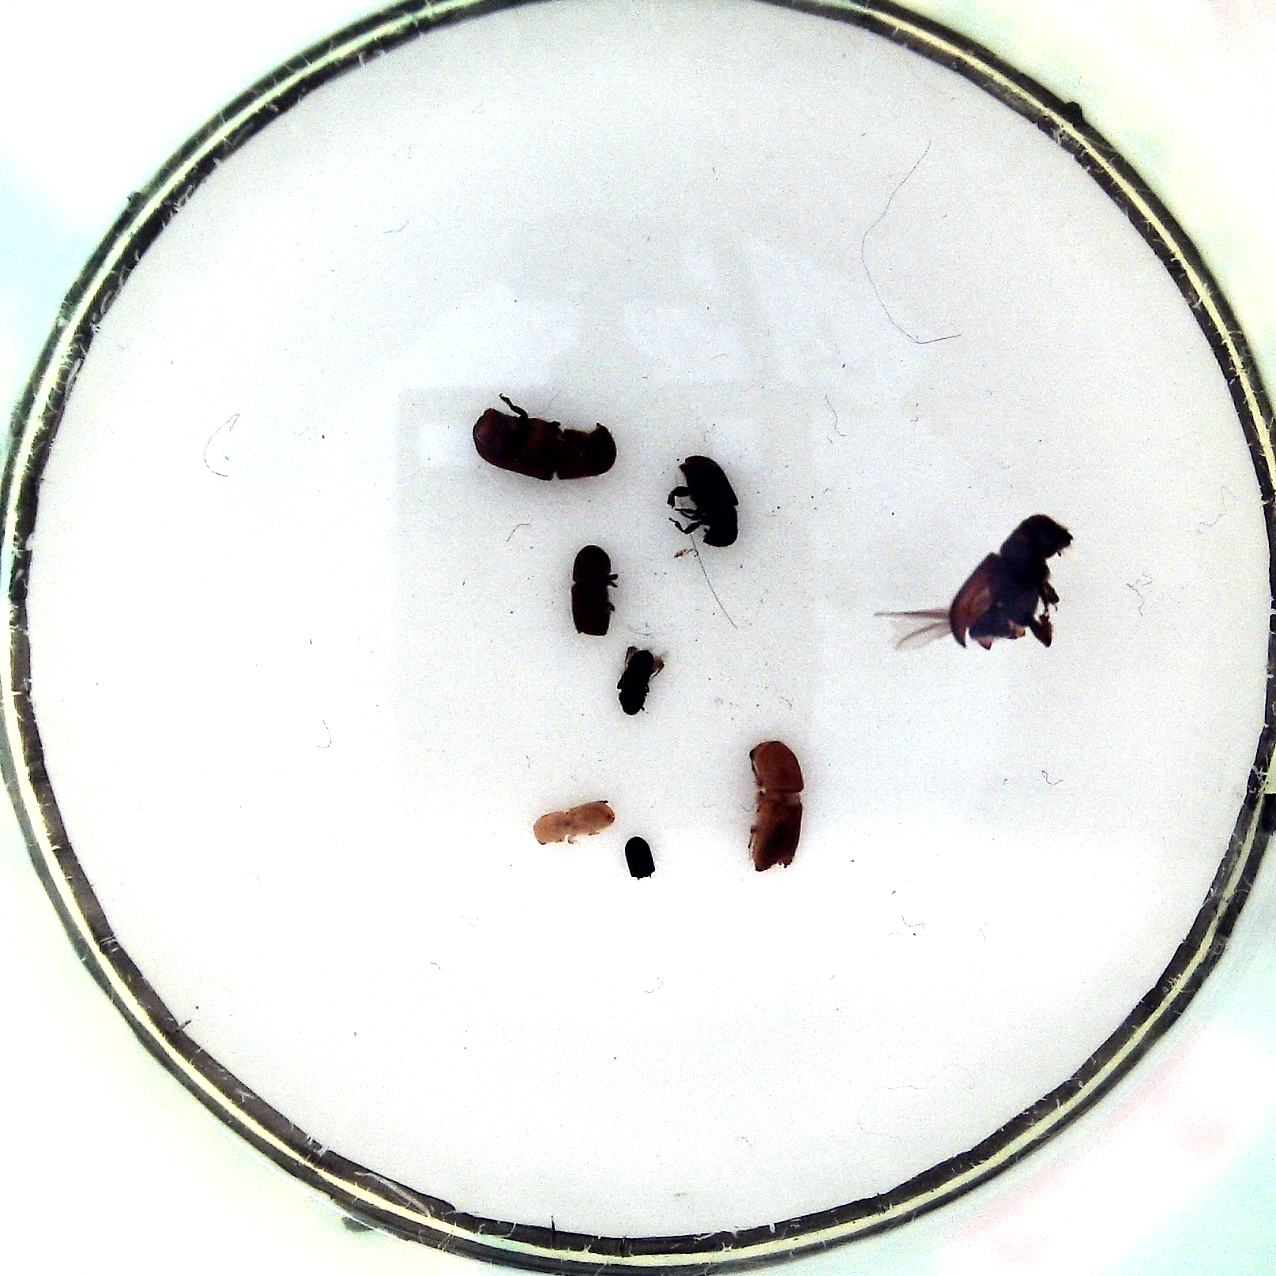Boerner: (743, 729, 809, 878)
Leconte: (873, 509, 1074, 653), (473, 388, 623, 486)
Linnaeus: (666, 448, 743, 553), (566, 543, 623, 642)
acuminatus: (525, 797, 627, 847)
coleoptera: (612, 637, 668, 717), (620, 835, 660, 881)
